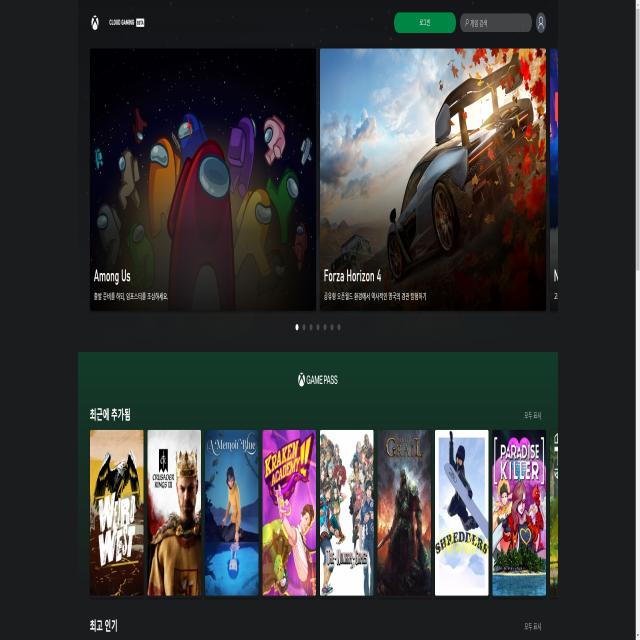menu-bar: (391, 4, 547, 39)
search: (458, 8, 532, 36)
tab-bar: (88, 9, 148, 37)
